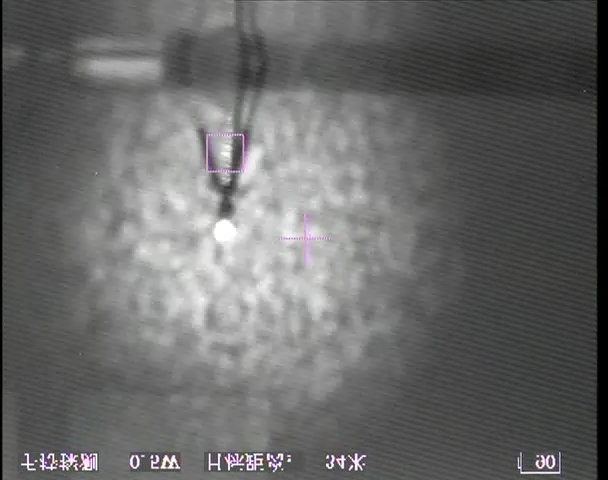my: (212, 217, 238, 246)
